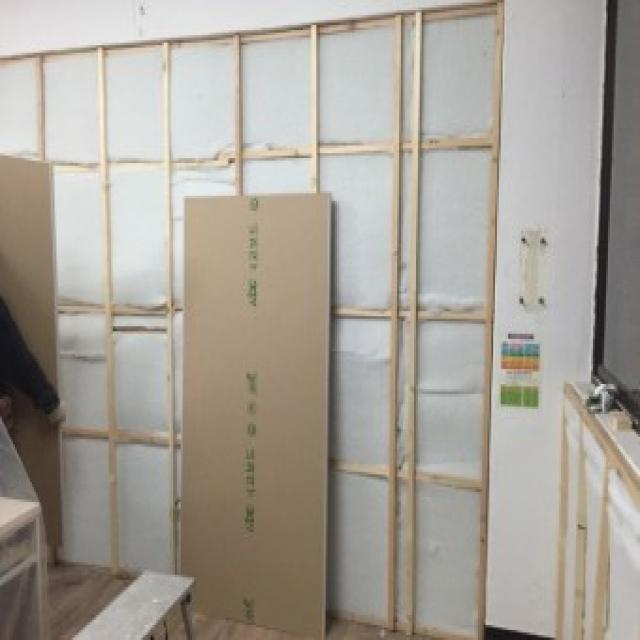board: (180, 193, 332, 640), (0, 151, 62, 547)
stud: (0, 0, 504, 640)
